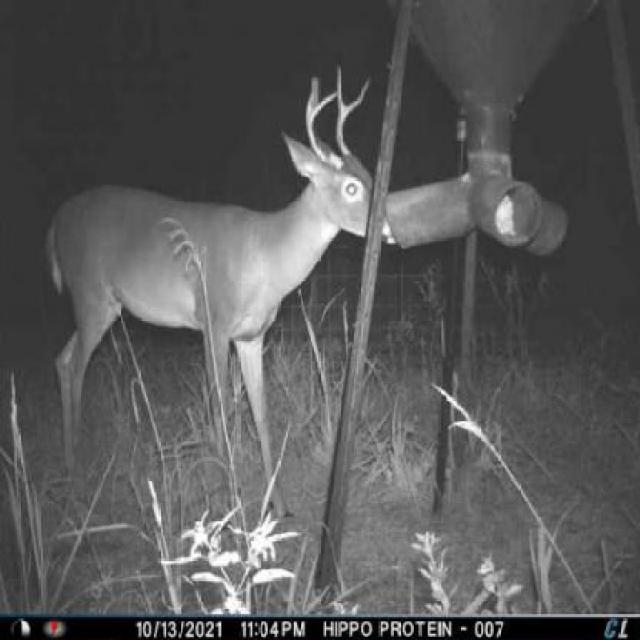Deer: (24, 52, 391, 540)
